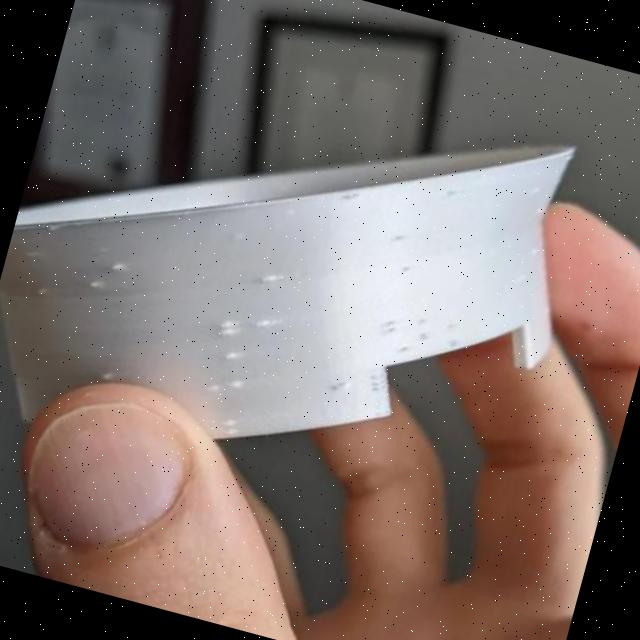blobs: (250, 308, 282, 341), (211, 313, 243, 345), (212, 413, 247, 442), (254, 264, 287, 294), (213, 345, 244, 374), (101, 254, 130, 283), (328, 372, 357, 400), (81, 273, 109, 300), (93, 361, 117, 388), (221, 373, 244, 399), (200, 376, 224, 400), (31, 282, 52, 302)
